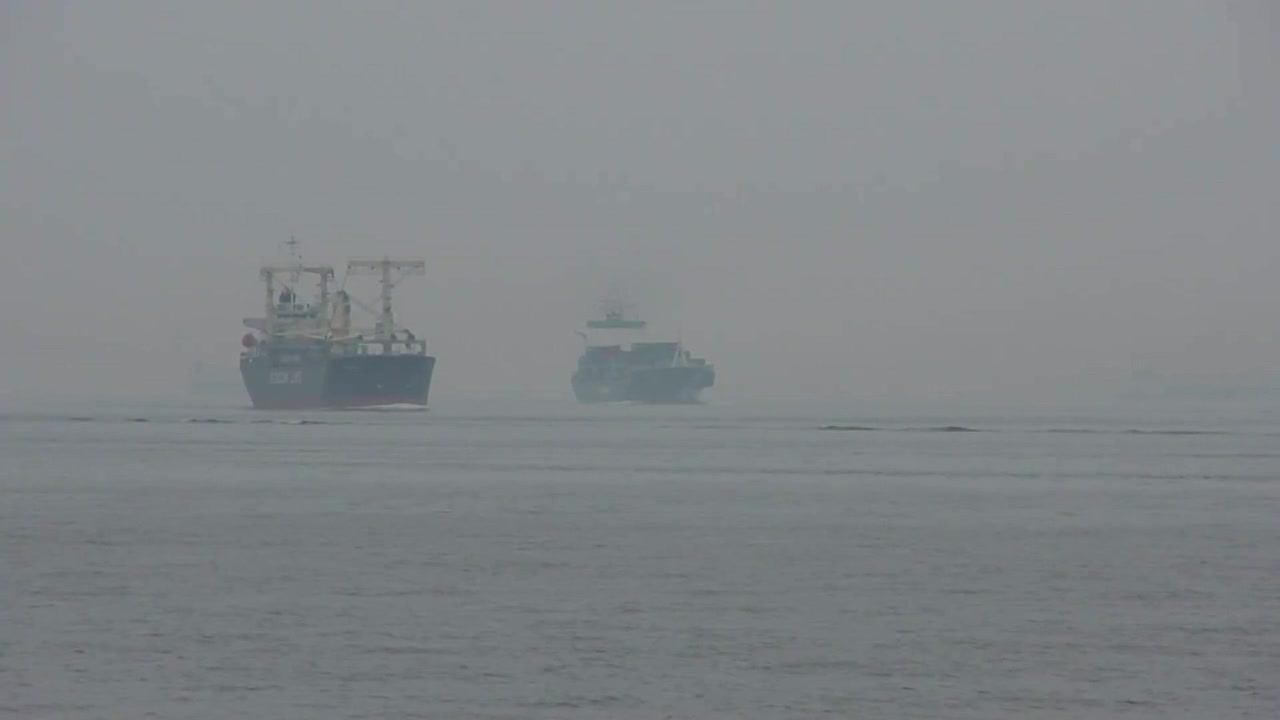boat: (239, 237, 441, 408)
